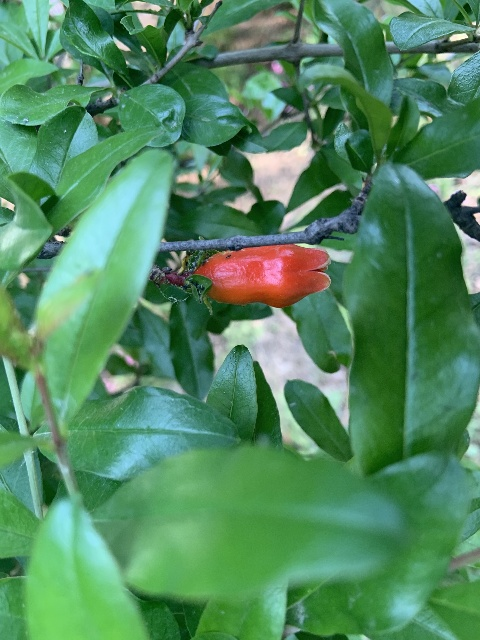flower: (193, 243, 332, 308)
